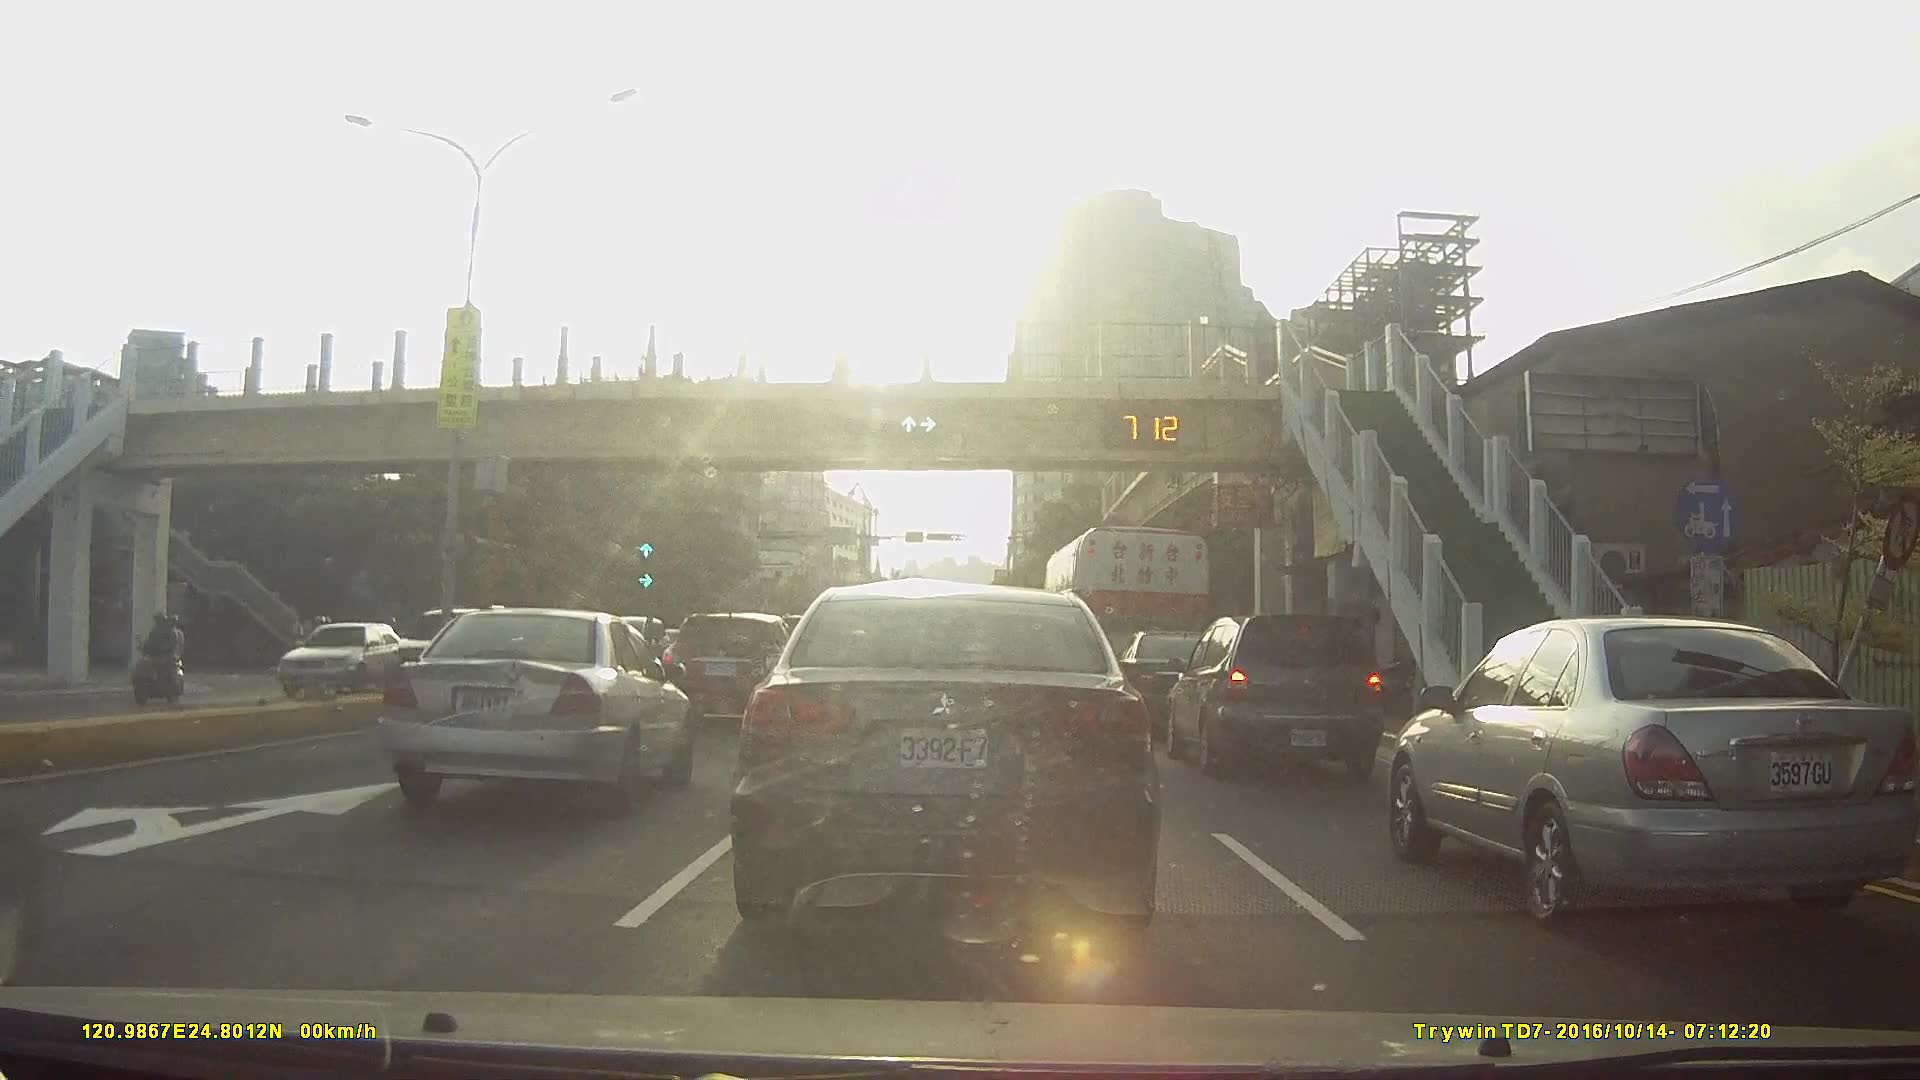rider: (132, 610, 186, 706)
vehicle: (727, 574, 1164, 954), (1387, 617, 1920, 929), (379, 601, 695, 798), (1166, 610, 1407, 782), (372, 604, 514, 718), (659, 609, 798, 723), (253, 620, 423, 704), (1114, 629, 1244, 731)
